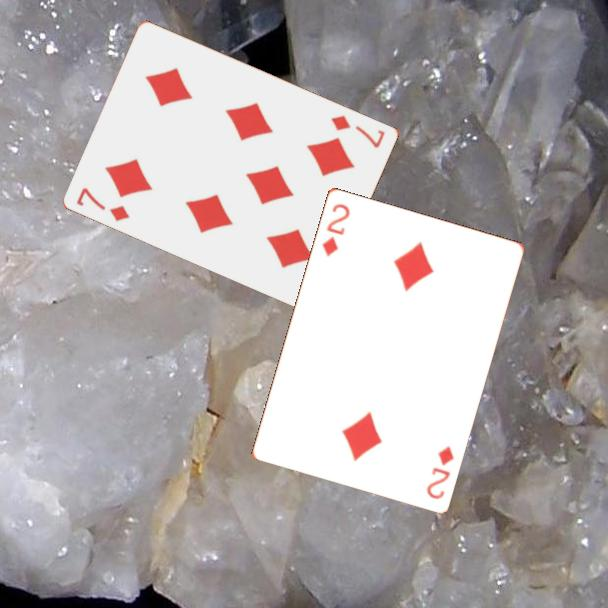d02: (318, 199, 353, 259), (423, 442, 457, 502)
d07: (328, 111, 388, 151), (73, 184, 133, 224)
